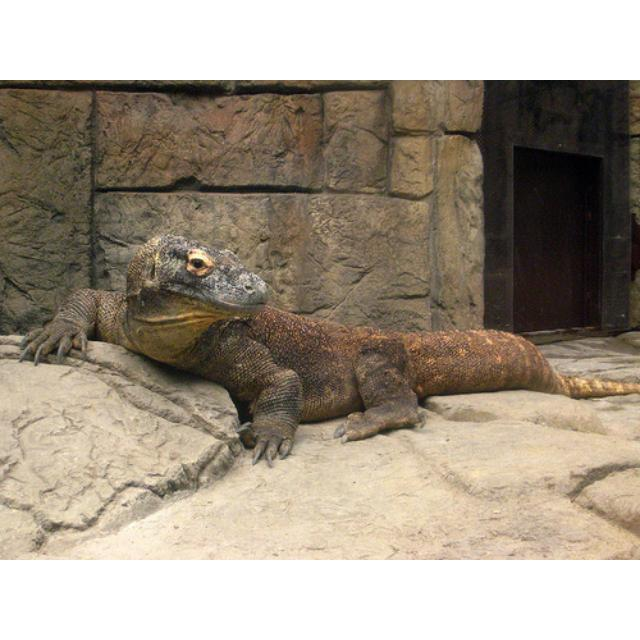KomodoDragon: (19, 230, 637, 460)
